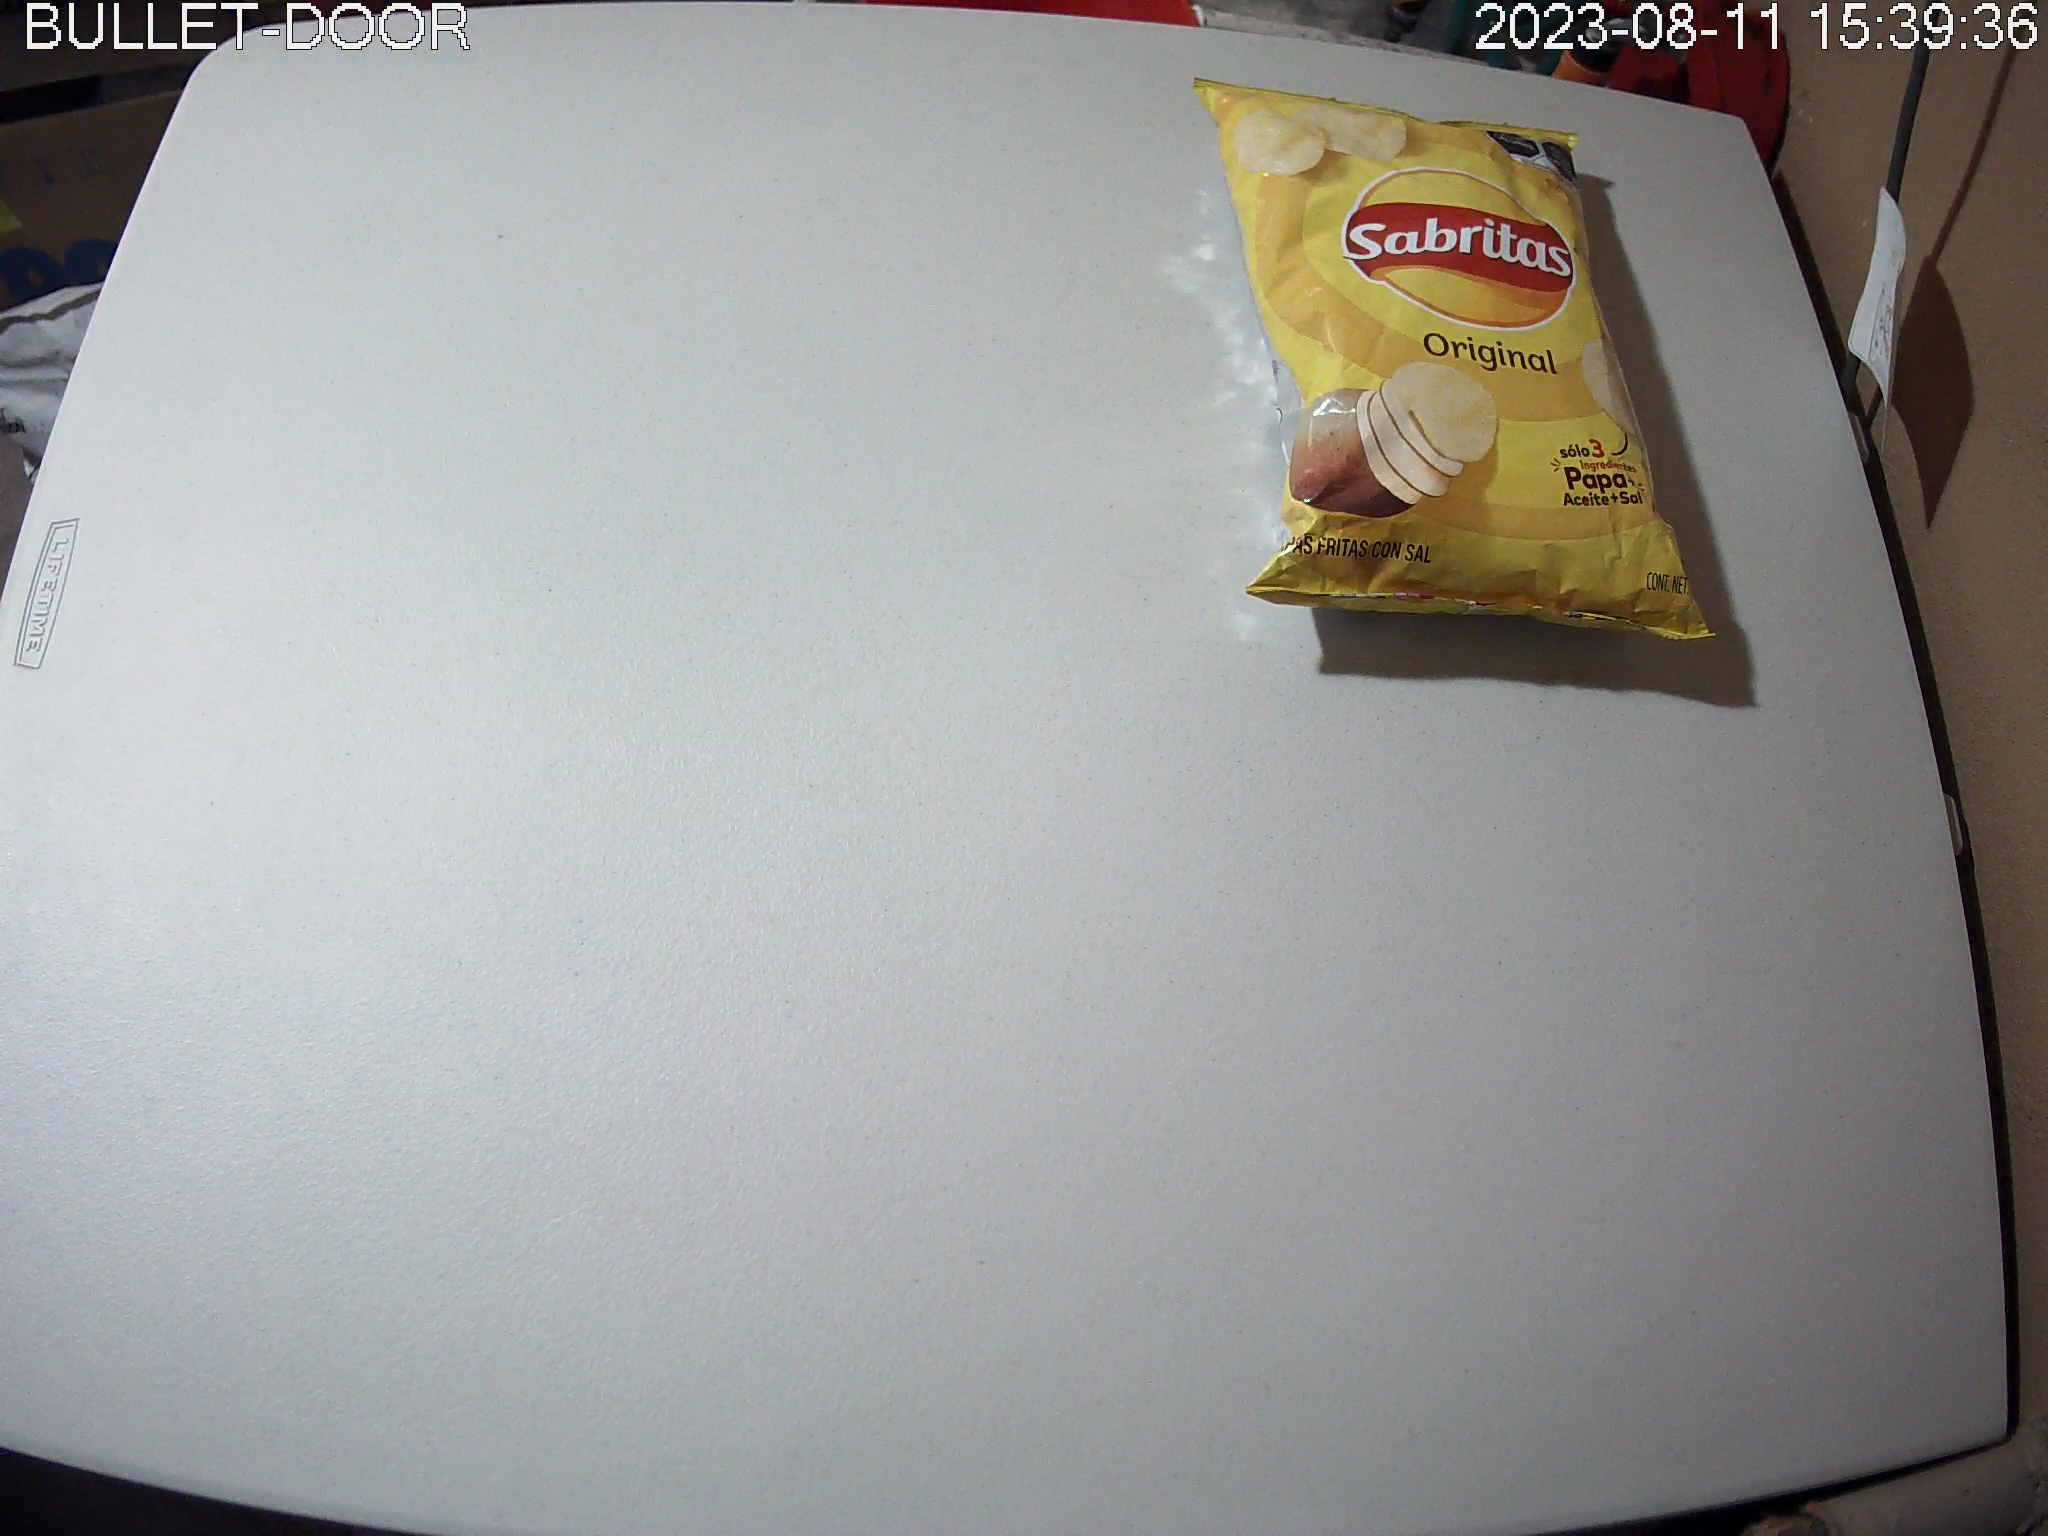Sabritas_160_F: (1188, 74, 1725, 650)
